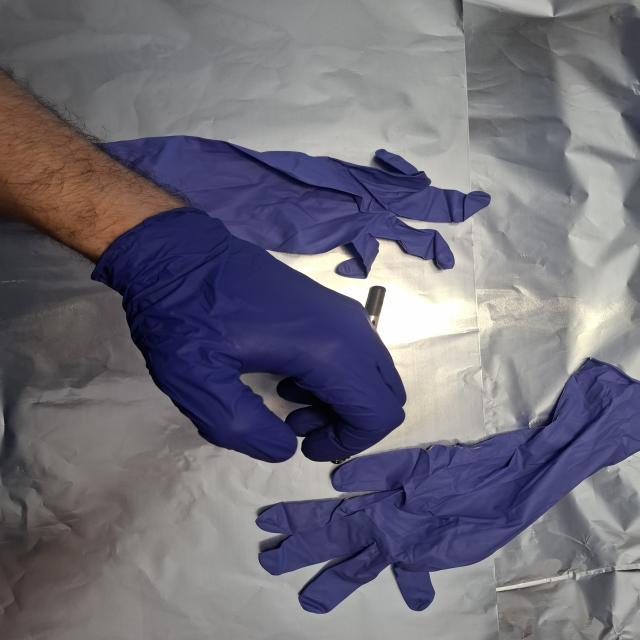glove_on: (110, 212, 413, 464)
